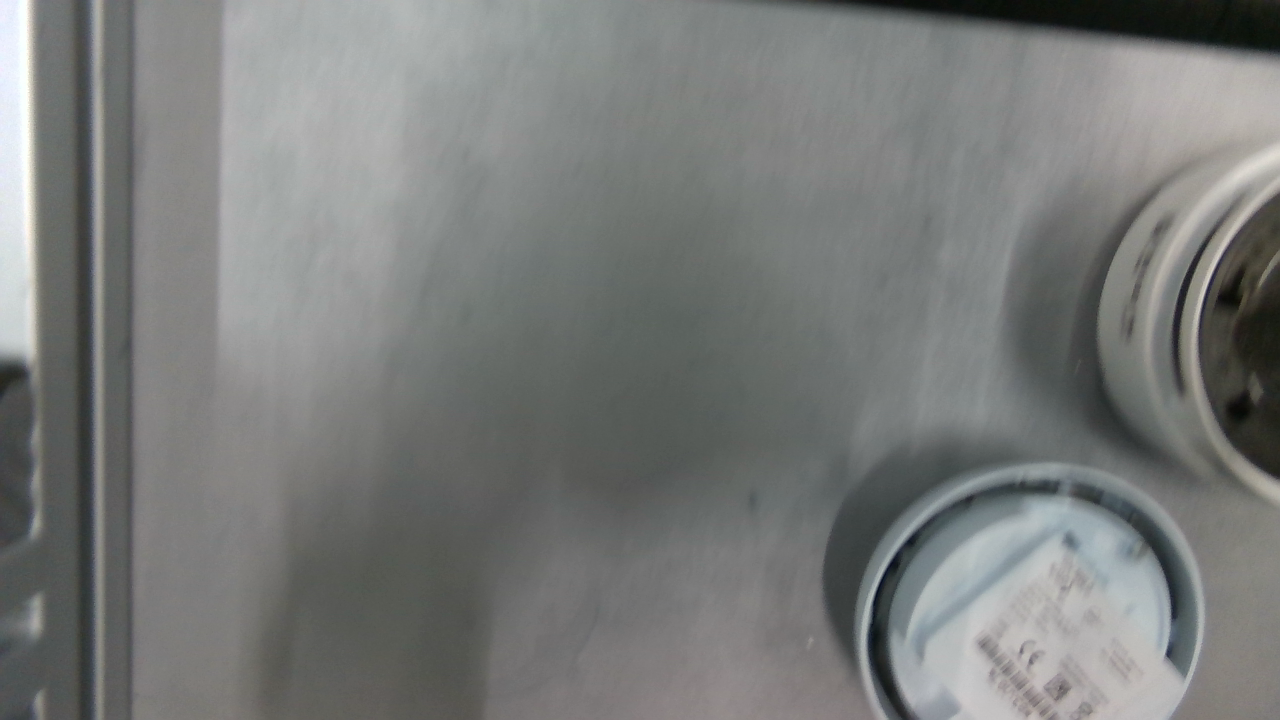HexScrew: (1131, 540, 1149, 563)
